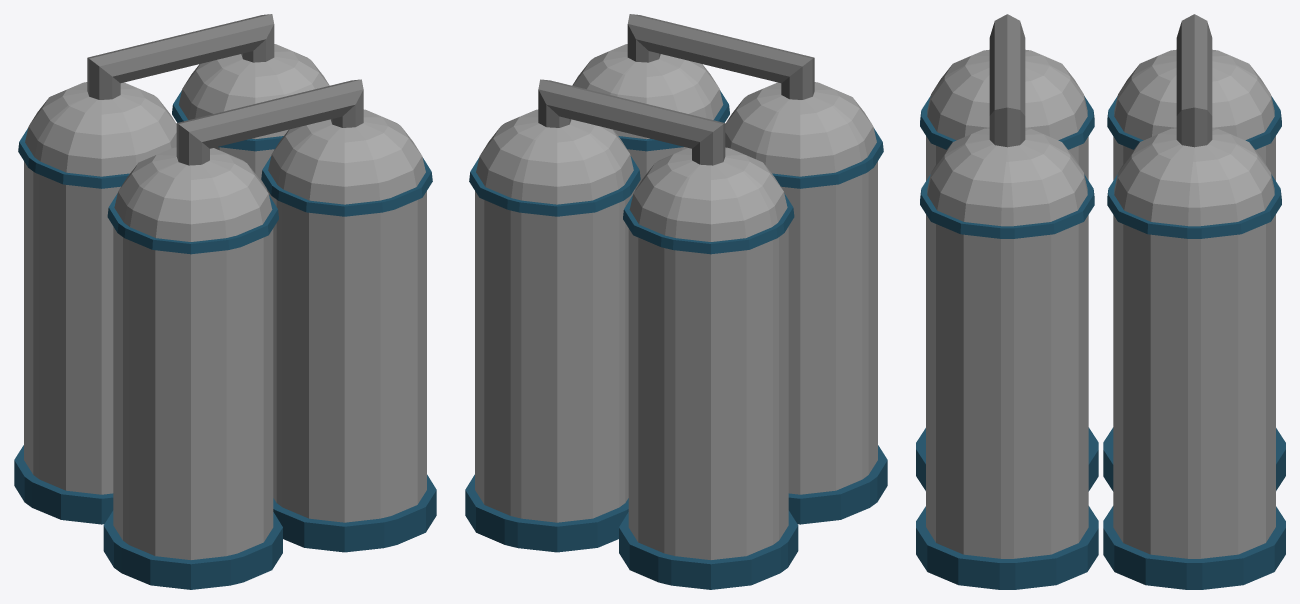
3 renders of one model, left to right at view 1: azimuth 30°, elevation 25°; view 2: azimuth 150°, elevation 25°; view 3: azimuth 270°, elevation 25°, orthographic. The views are drawn at different scales.
Visible parts, largest first — view 1: factorystructure_a.003; view 2: factorystructure_a.003; view 3: factorystructure_a.003.
Boxes of the visible parts, bbox=[...] form: factorystructure_a.003: bbox=[14, 14, 436, 589]; factorystructure_a.003: bbox=[465, 14, 887, 589]; factorystructure_a.003: bbox=[916, 14, 1285, 589].
Size of the model in its own units: 13.86 by 18.74 by 13.91.
Materials: 1 (1 with a texture image).
